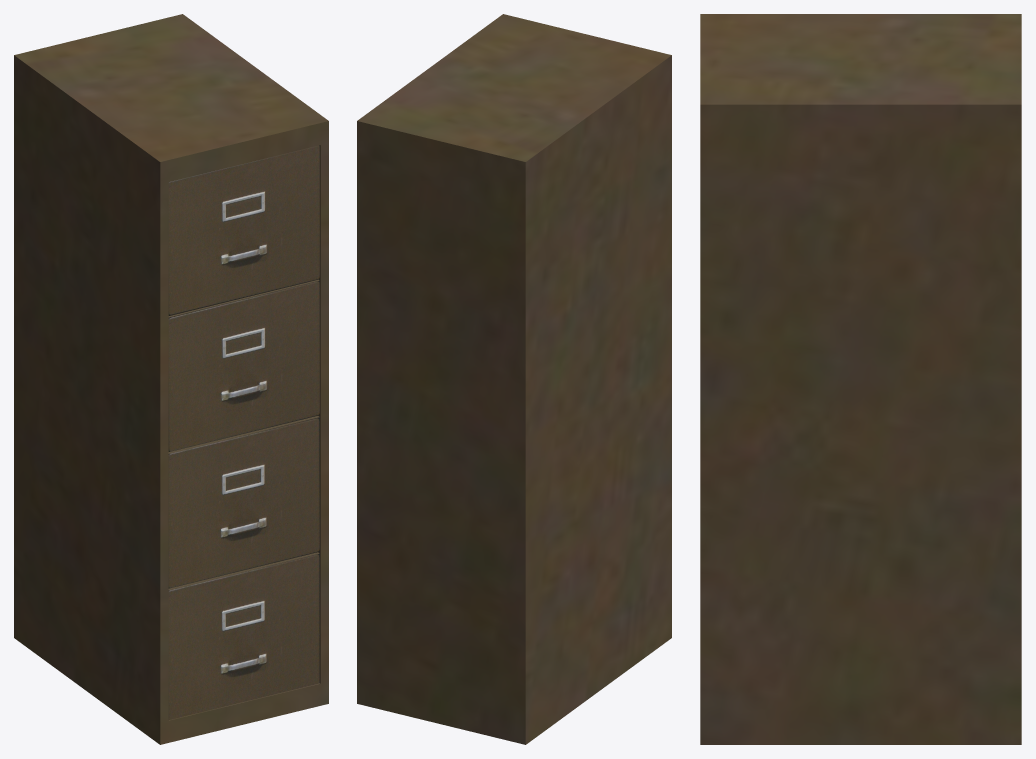
The model's file is archiver.fbx.
The picture shows the model from 3 angles, left to right: view 1: azimuth 30°, elevation 25°; view 2: azimuth 150°, elevation 25°; view 3: azimuth 270°, elevation 25°; orthographic projection. The views are drawn at different scales.
Parts seen in each view (by area): view 1: Cube, Cube_003, Cube_002, Cube_001, Cube_004; view 2: Cube; view 3: Cube.
Part boxes in pixels (x1,y1,x2,y2): Cube: (14, 14, 328, 744); Cube_003: (168, 416, 319, 588); Cube_002: (168, 279, 319, 451); Cube_001: (168, 145, 319, 315); Cube_004: (168, 552, 319, 719); Cube: (357, 14, 671, 744); Cube: (700, 14, 1021, 744).
Size of the model in its own units: 0.4 by 1.32 by 0.6.
